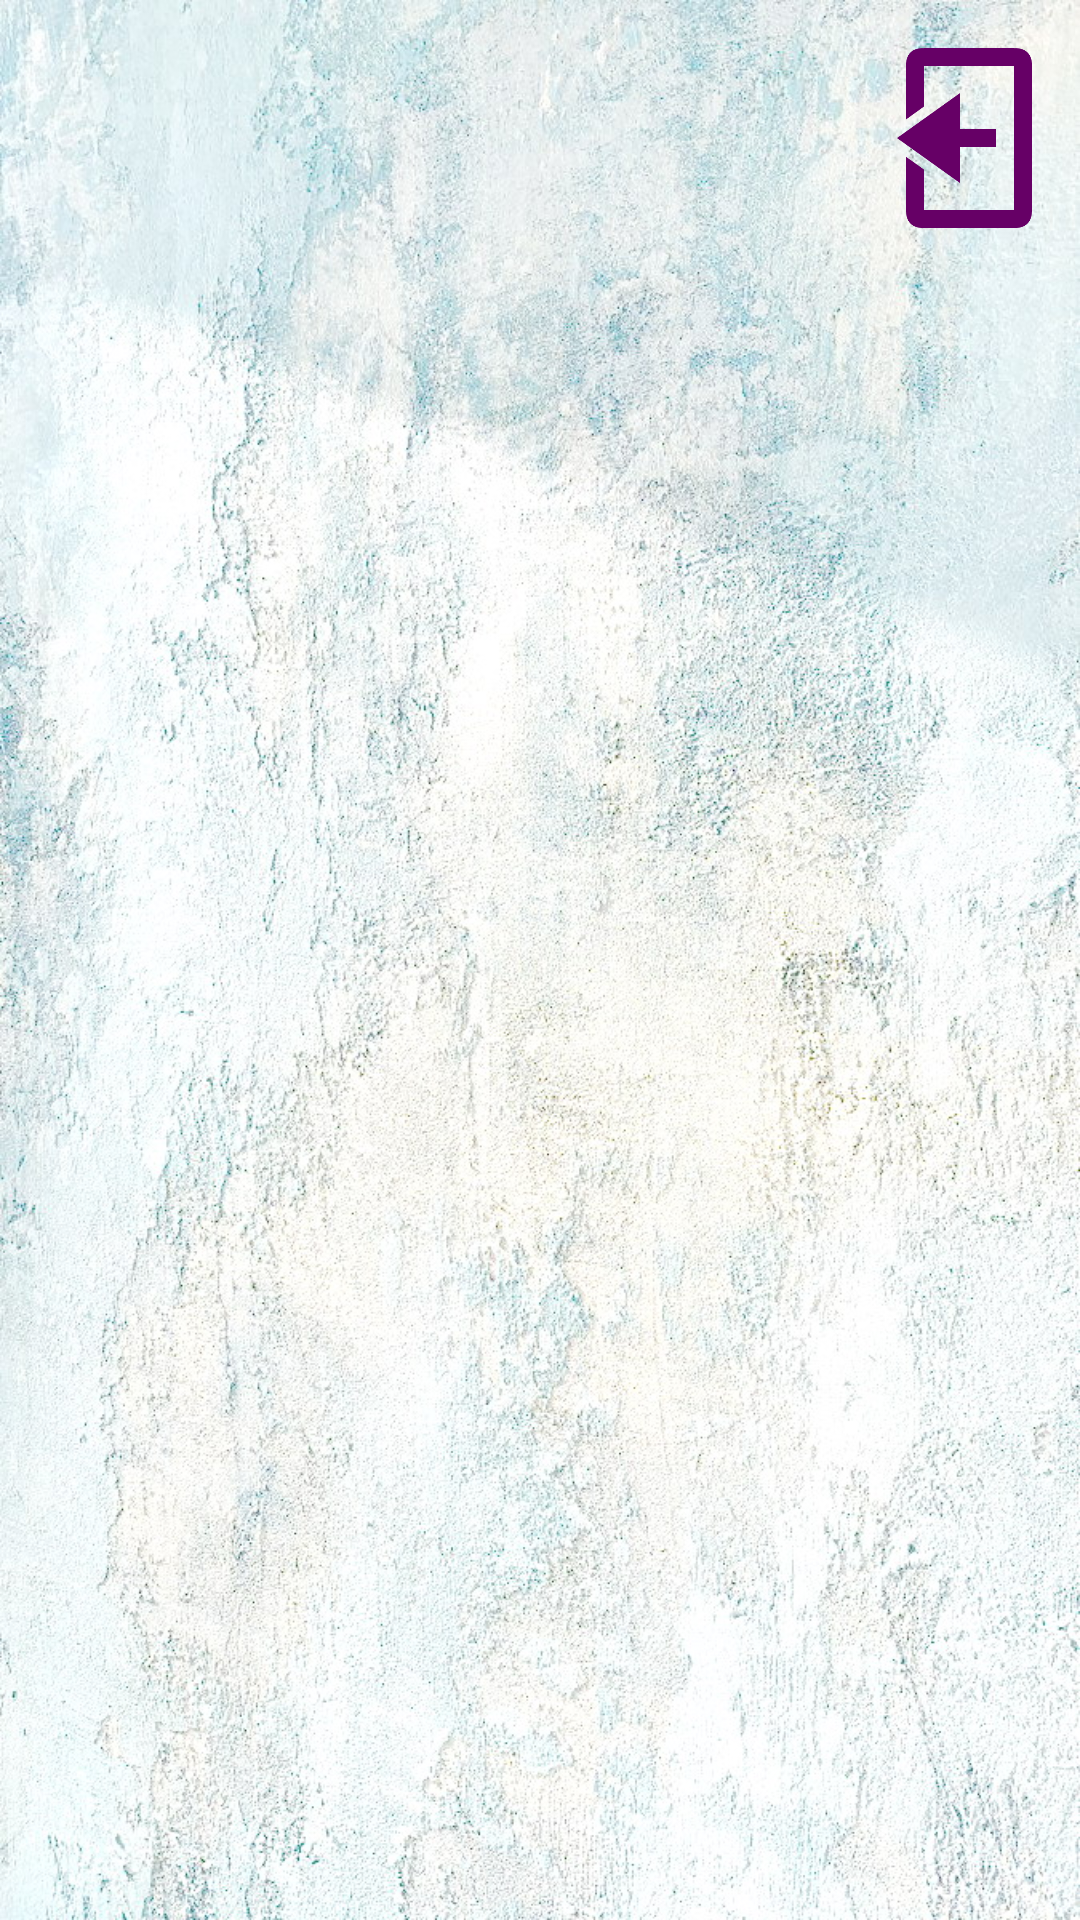

Screen size 1080×1920. Icon name, then its box in pixels as (x1, y1, x2, y2):
back: (897, 48, 1032, 228)
